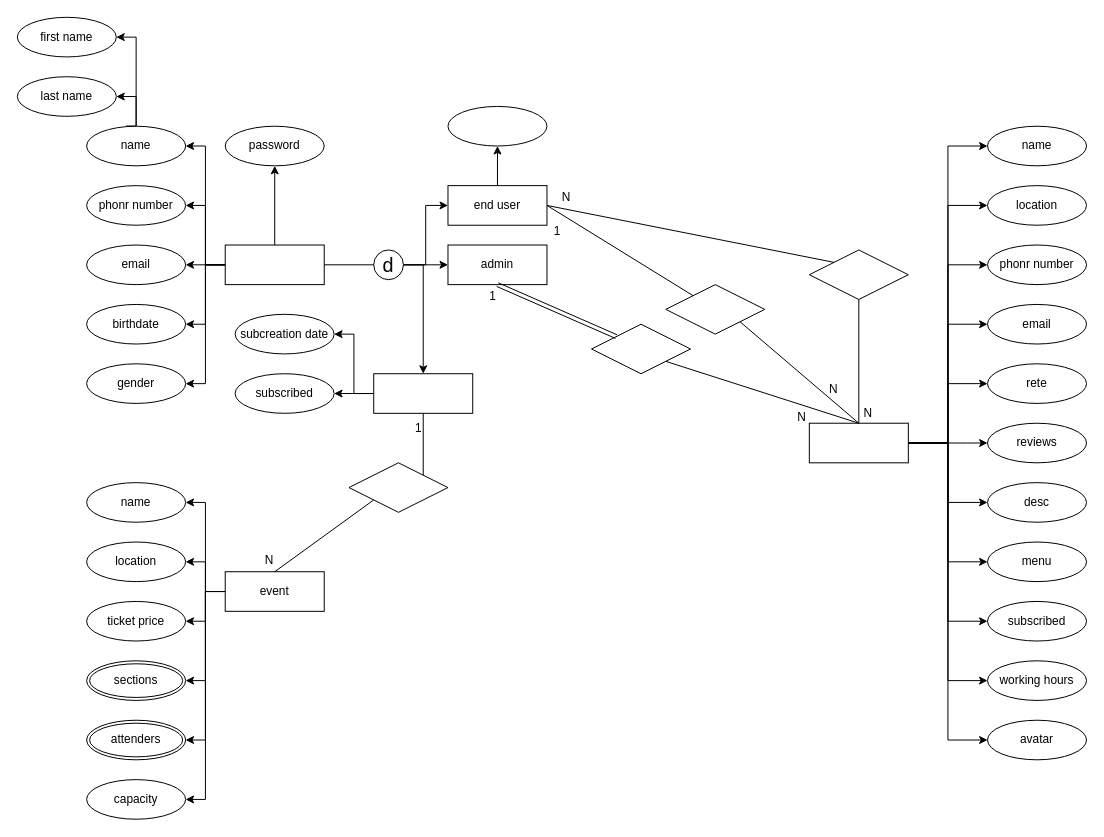
Image size: 1104x837. Some labels were removed from this diagram. The centre of each missing label's shape, as x and y in pixels:
add to fav: pixel 715 309
approve: pixel 641 348
create event: pixel 398 487
event organizer: pixel 423 393
order: pixel 858 274
points: pixel 497 125
restaurants: pixel 858 442
user: pixel 274 264
